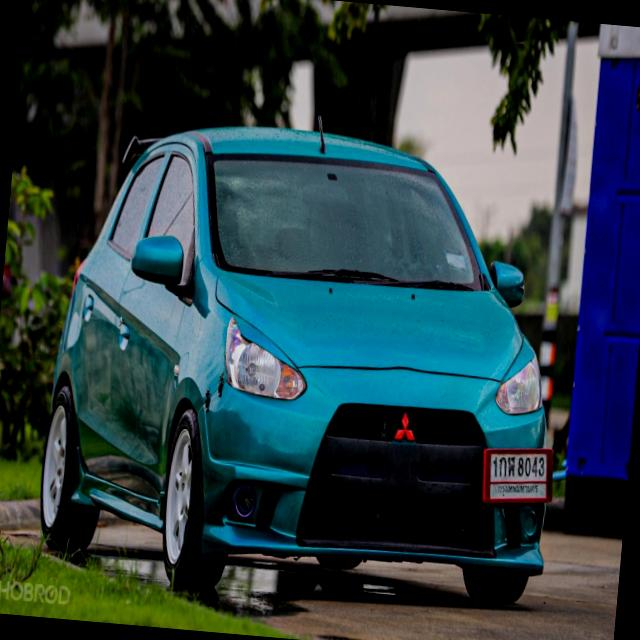license_plate: (480, 442, 558, 512)
